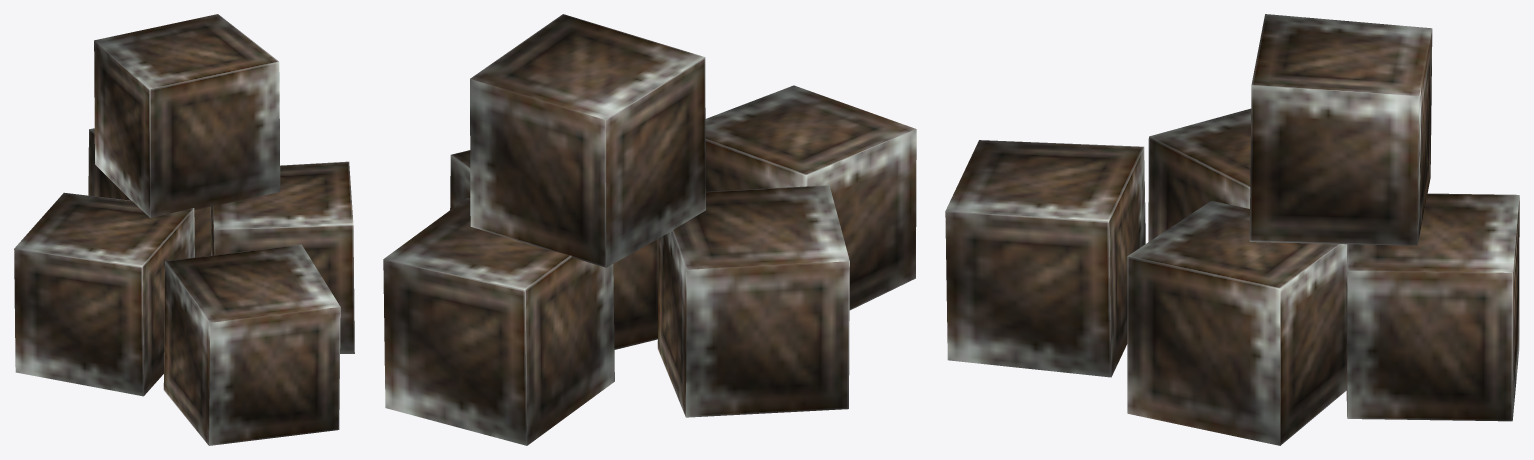
Rendered from S_Build_Snowland198.FBX.
3 renders of one model, left to right at view 1: azimuth 30°, elevation 25°; view 2: azimuth 150°, elevation 25°; view 3: azimuth 270°, elevation 25°, orthographic. The views are drawn at different scales.
Visible parts, largest first — view 1: S_Build_Snowland198; view 2: S_Build_Snowland198; view 3: S_Build_Snowland198.
Boxes of the visible parts, x1,y1,x2,y2 form: S_Build_Snowland198: [14, 14, 354, 445]; S_Build_Snowland198: [383, 14, 916, 445]; S_Build_Snowland198: [945, 14, 1519, 445].
Bounding box in the file's own units: 245 × 302 × 182.
